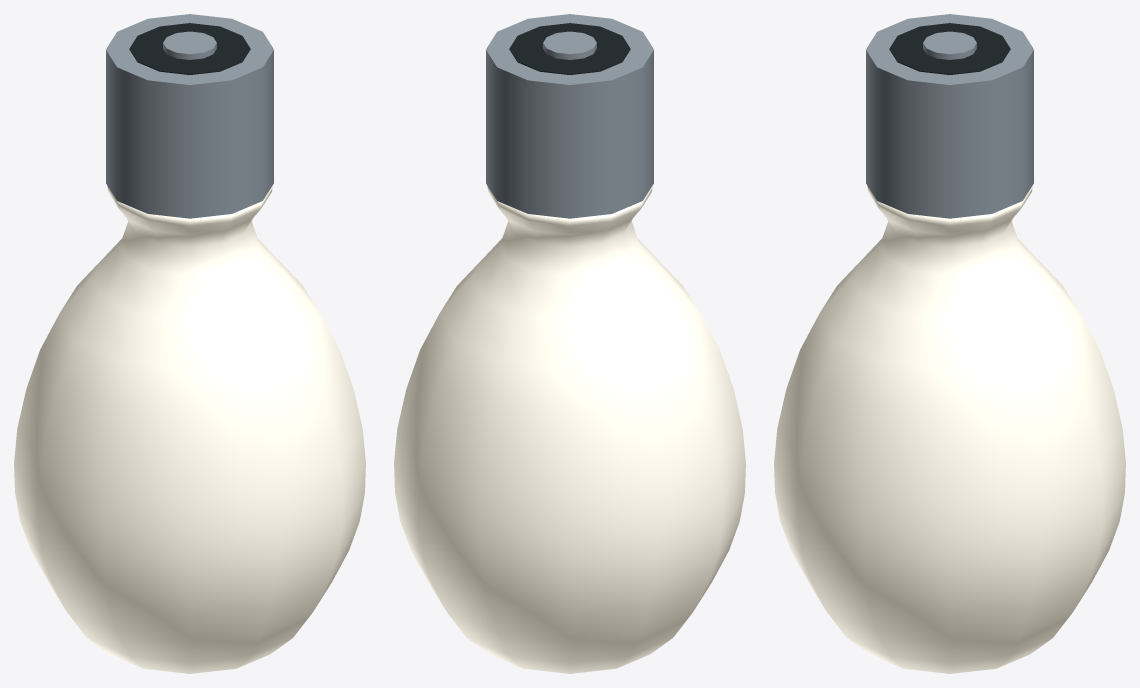
Rendered from source.glb.
The picture shows the model from 3 angles, left to right: view 1: azimuth 30°, elevation 25°; view 2: azimuth 150°, elevation 25°; view 3: azimuth 270°, elevation 25°; orthographic projection.
Visible parts, largest first — view 1: Emitters, 机加工金属, 密封及绝缘件; view 2: Emitters, 机加工金属, 密封及绝缘件; view 3: Emitters, 机加工金属, 密封及绝缘件.
Part boxes in pixels (x1,y1,x2,y2): Emitters: (14, 186, 365, 673); 机加工金属: (106, 14, 273, 218); 密封及绝缘件: (129, 23, 250, 74); Emitters: (394, 186, 745, 673); 机加工金属: (486, 14, 653, 218); 密封及绝缘件: (509, 23, 630, 74); Emitters: (774, 186, 1125, 673); 机加工金属: (866, 14, 1033, 218); 密封及绝缘件: (889, 23, 1010, 74).
Bounding box in the file's own units: 0.0452 × 0.0869 × 0.0452.
